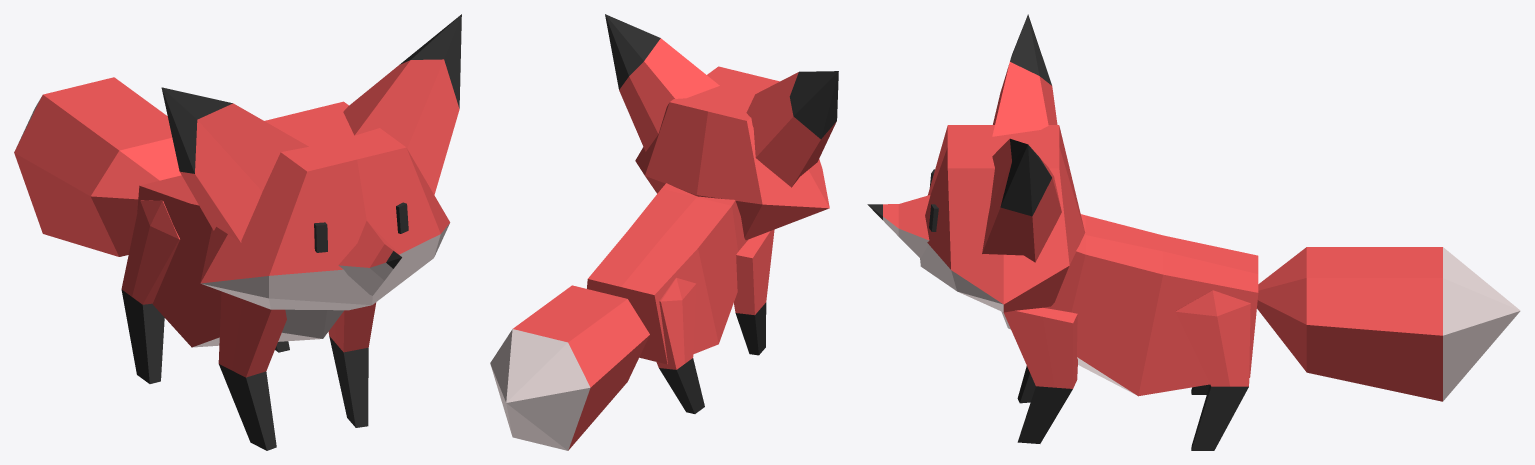
File: fox.fbx
The picture shows the model from 3 angles, left to right: view 1: azimuth 30°, elevation 25°; view 2: azimuth 150°, elevation 25°; view 3: azimuth 270°, elevation 25°; orthographic projection. The views are drawn at different scales.
Parts seen in each view (by area): view 1: fox; view 2: fox; view 3: fox.
Part boxes in pixels (bbox=[...]): fox: bbox=[14, 14, 461, 450]; fox: bbox=[490, 14, 838, 450]; fox: bbox=[867, 14, 1520, 450].
Size of the model in its own units: 15.54 by 32.91 by 18.96.
